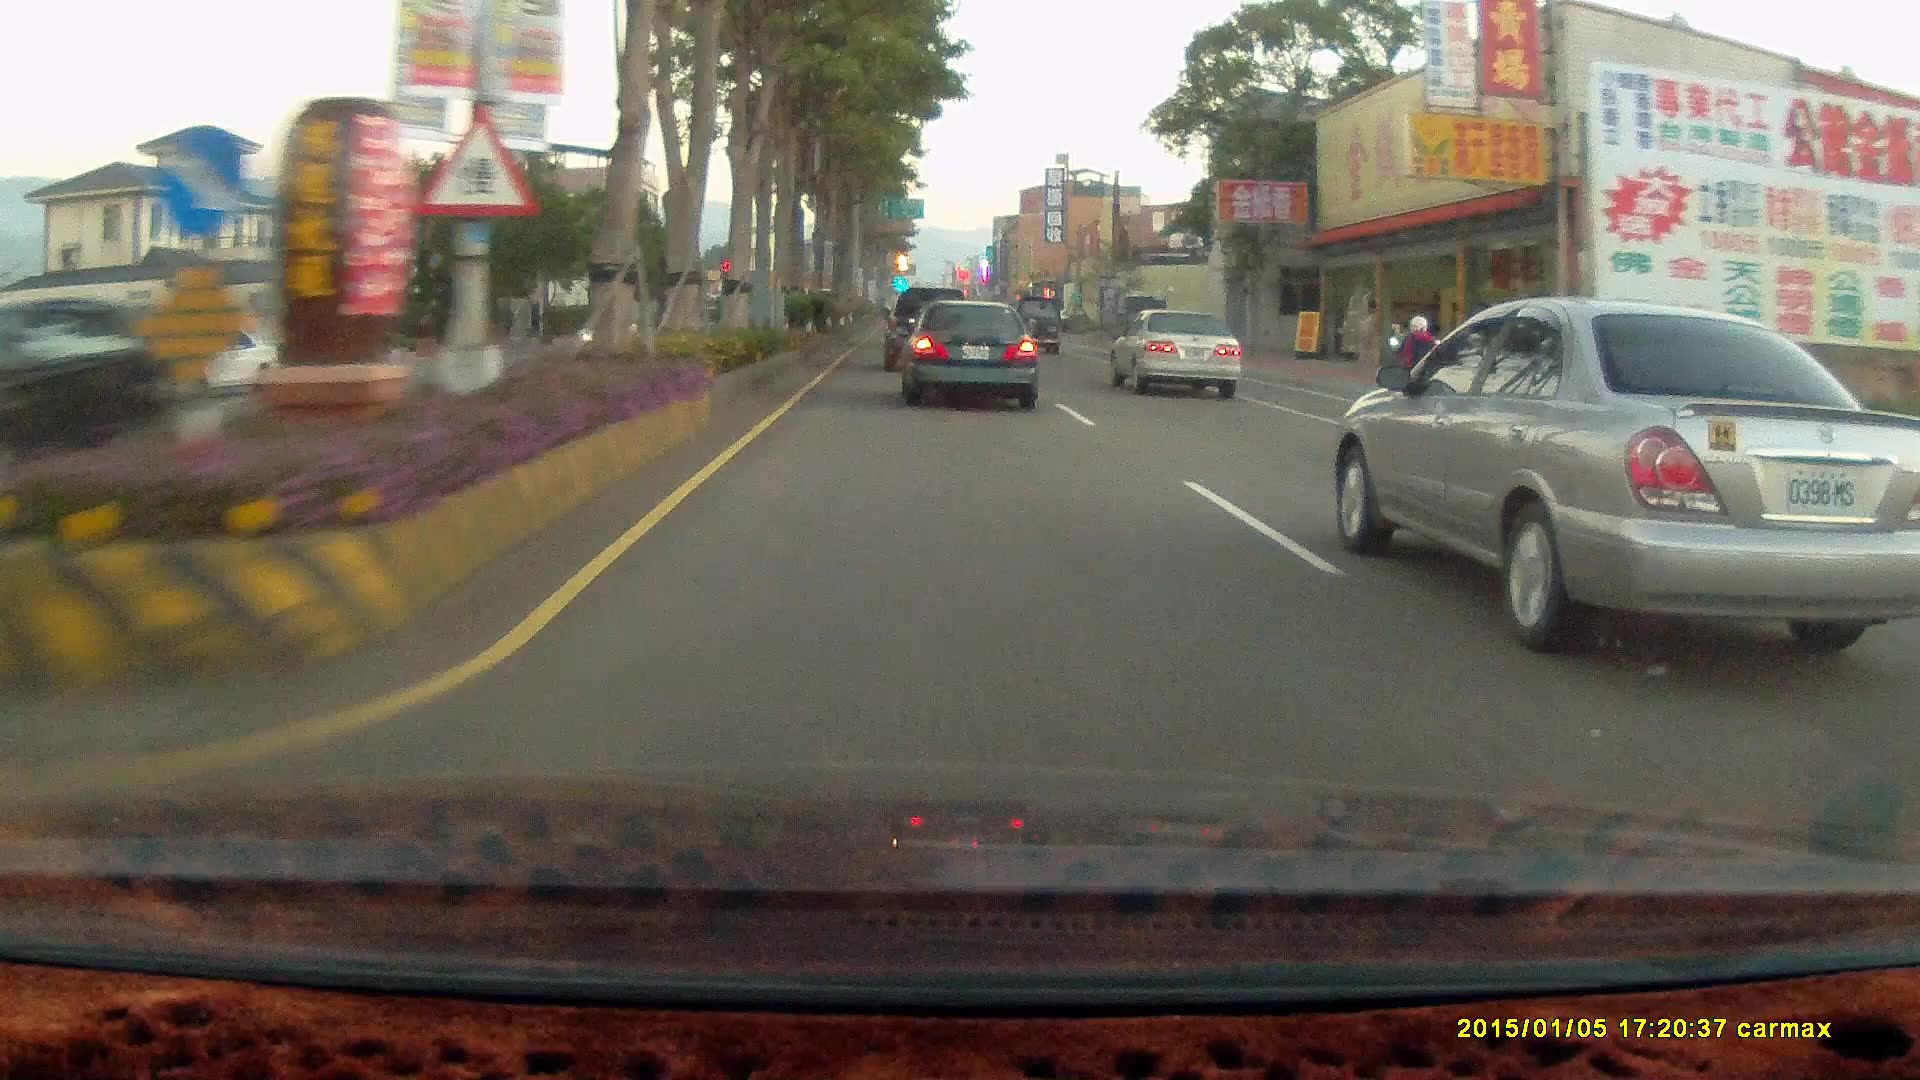rider: (1387, 306, 1453, 421), (1390, 318, 1446, 427)
vehicle: (1342, 289, 1920, 637), (1, 294, 186, 492), (1, 295, 214, 465), (898, 294, 1045, 416), (897, 298, 1040, 410), (94, 322, 278, 395), (1105, 305, 1241, 396), (1122, 302, 1253, 392), (118, 322, 277, 394), (883, 283, 974, 375), (882, 288, 966, 373), (1007, 290, 1062, 352)
